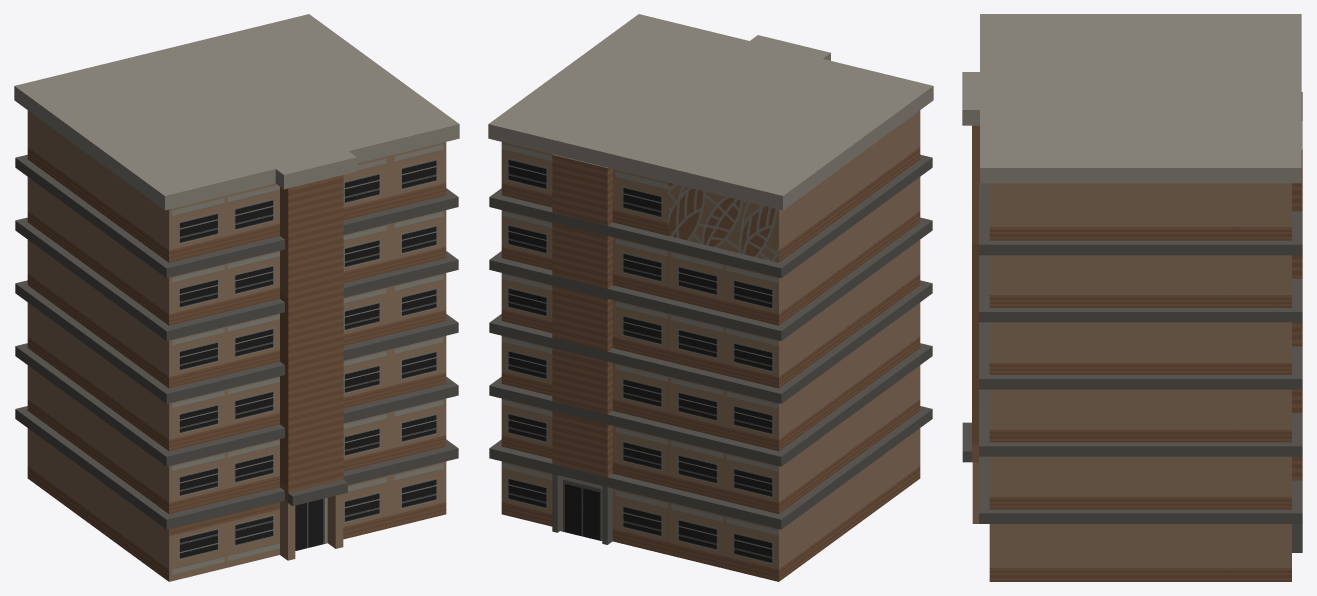
File: qcu_bldg2.glb
3 views of the same model, side by side, from view 1: azimuth 30°, elevation 25°; view 2: azimuth 150°, elevation 25°; view 3: azimuth 270°, elevation 25° (orthographic). The views are drawn at different scales.
Visible parts, largest first — view 1: Bautista; view 2: Bautista; view 3: Bautista.
Boxes of the visible parts, x1,y1,x2,y2 form: Bautista: (14, 14, 459, 581); Bautista: (488, 14, 933, 581); Bautista: (962, 14, 1302, 581).
Size of the model in its own units: 2.13 by 2.7 by 1.99.
1 material, 1 textured.
